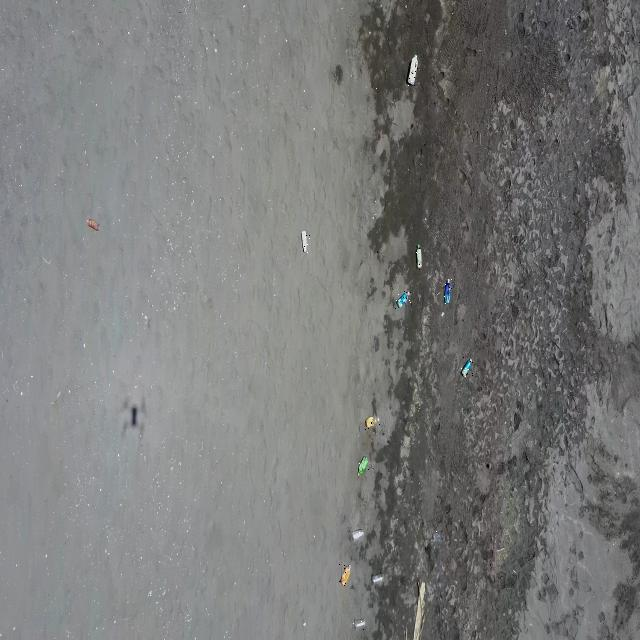plastic-bottle: (407, 54, 419, 87), (395, 289, 411, 309), (339, 563, 352, 587), (460, 355, 473, 378), (357, 454, 369, 476), (364, 416, 381, 430), (301, 229, 310, 254), (444, 278, 452, 304), (416, 244, 423, 270)
takeaway-cup: (370, 572, 384, 586), (353, 617, 367, 631), (351, 528, 364, 541), (432, 530, 444, 543)
